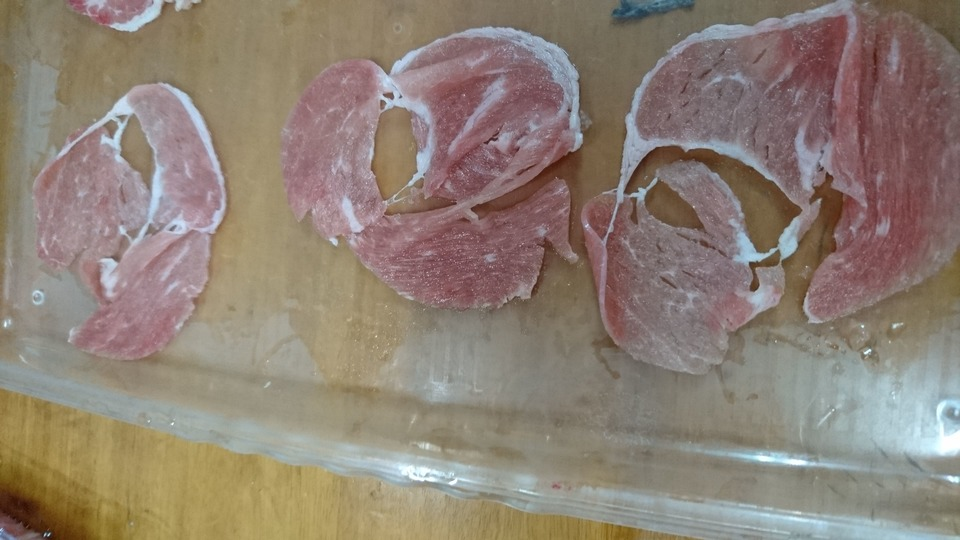restructured meat: (604, 6, 959, 360), (272, 36, 582, 311), (13, 78, 244, 365)
